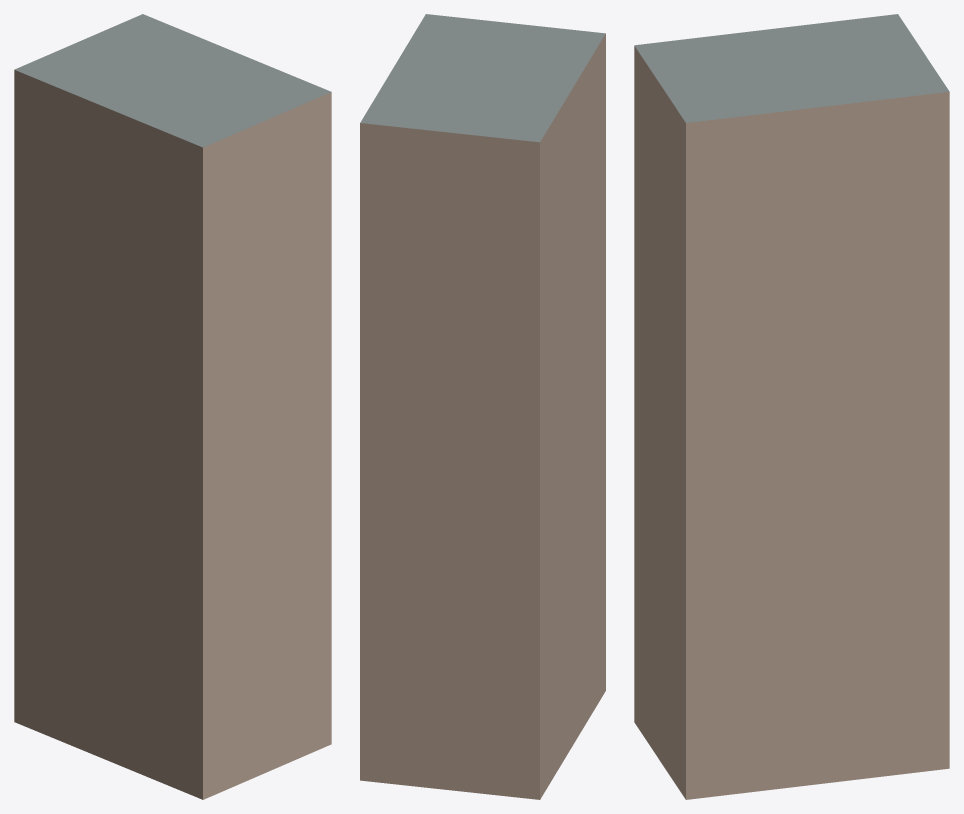
File: context--2-1.gltf
3 renders of one model, left to right at view 1: azimuth 30°, elevation 25°; view 2: azimuth 150°, elevation 25°; view 3: azimuth 270°, elevation 25°, orthographic. The views are drawn at different scales.
Visible parts, largest first — view 1: context--2-1; view 2: context--2-1; view 3: context--2-1.
Boxes of the visible parts, box(x1,y1,x2,y2) form: context--2-1: box(14, 14, 331, 799); context--2-1: box(360, 14, 605, 799); context--2-1: box(634, 14, 949, 799).
Size of the model in its own units: 25.22 by 72.96 by 30.82.
